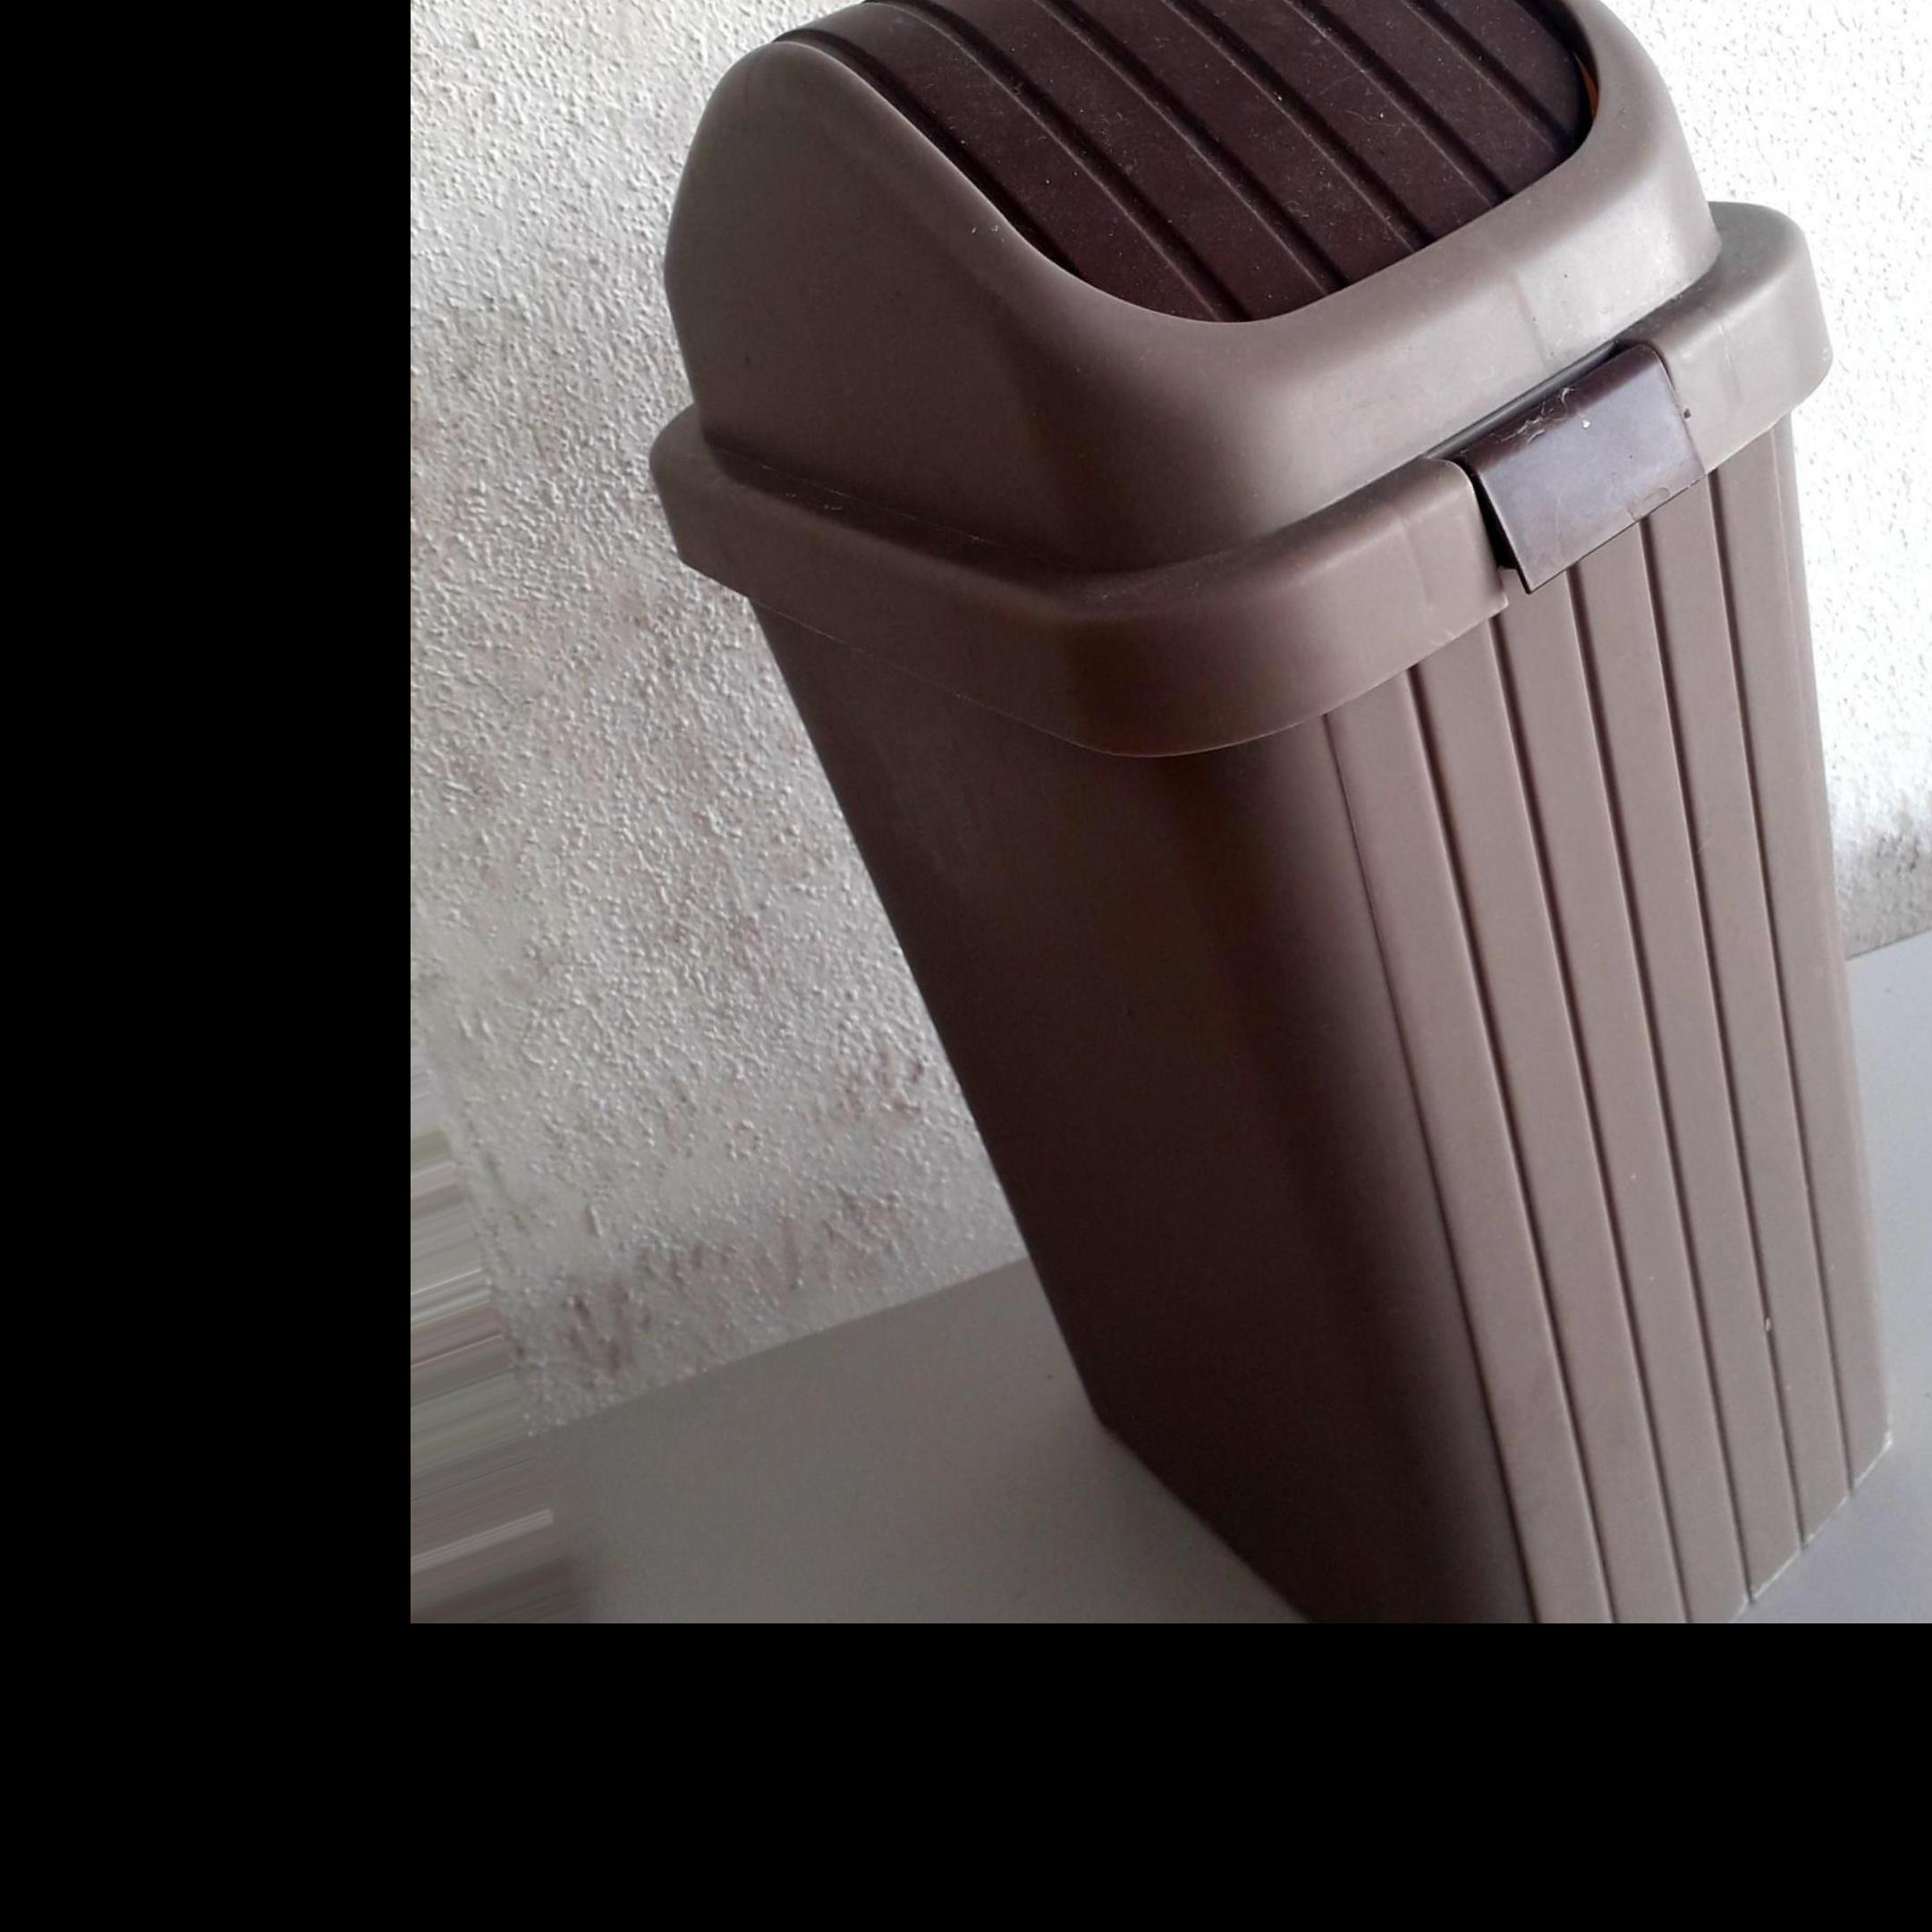Bote de Basura: (628, 0, 1881, 1753)
